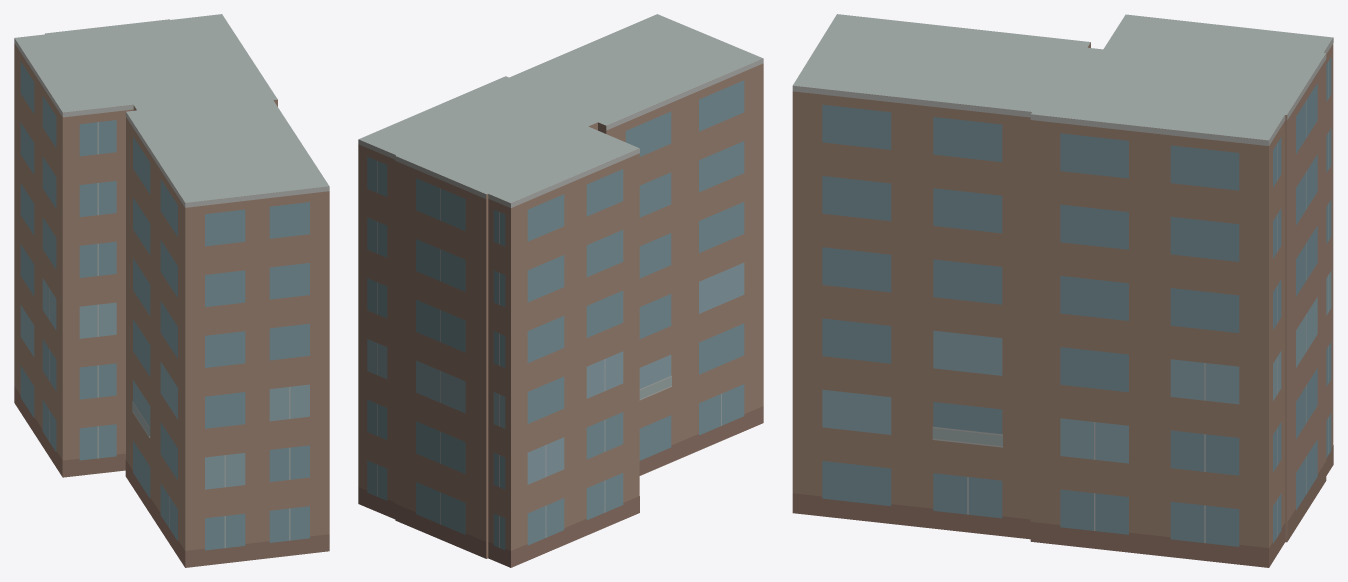
Rendered from survey-upis-33007685.glb.
The picture shows the model from 3 angles, left to right: view 1: azimuth 30°, elevation 25°; view 2: azimuth 150°, elevation 25°; view 3: azimuth 270°, elevation 25°; orthographic projection. The views are drawn at different scales.
Visible parts, largest first — view 1: survey-upis-33007685.tmp; view 2: survey-upis-33007685.tmp; view 3: survey-upis-33007685.tmp.
Part boxes in pixels (x1,y1,x2,y2): survey-upis-33007685.tmp: (14, 14, 329, 567); survey-upis-33007685.tmp: (358, 14, 763, 567); survey-upis-33007685.tmp: (792, 14, 1333, 567).
Bounding box in the file's own units: 11.62 × 18.3 × 20.99.
